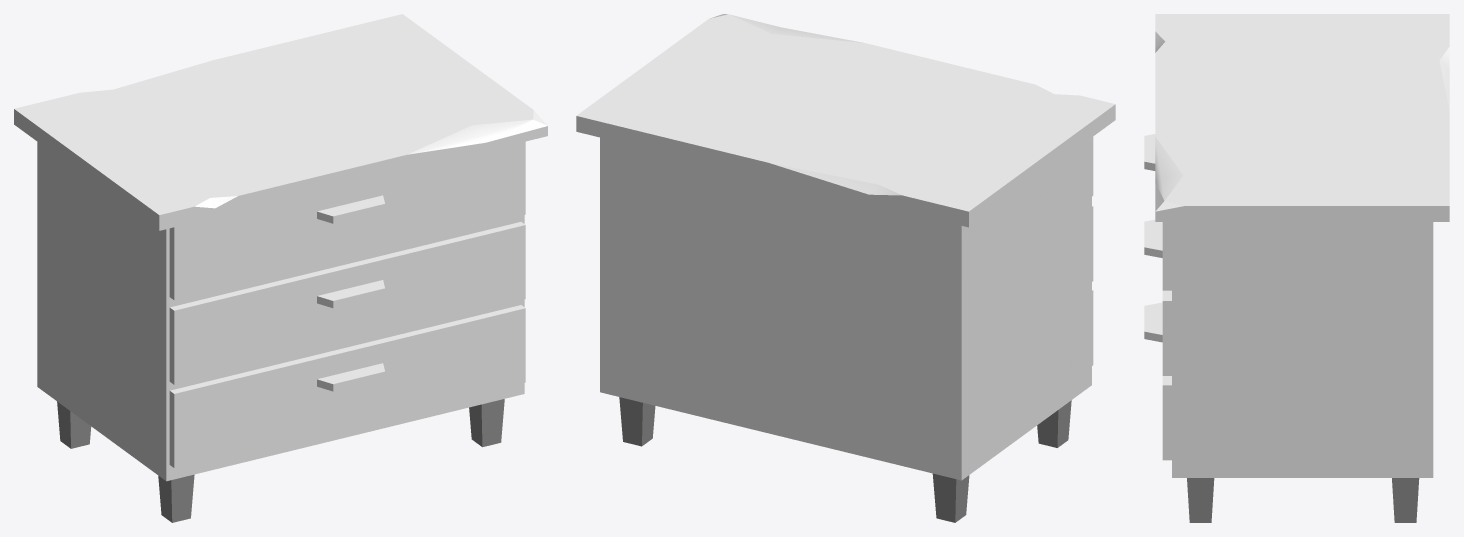
Rendered from SM_Prop_Dresser_05.obj.
3 views of the same model, side by side, from view 1: azimuth 30°, elevation 25°; view 2: azimuth 150°, elevation 25°; view 3: azimuth 270°, elevation 25° (orthographic).
Visible parts, largest first — view 1: SM_Prop_Dresser_05_Mat_SwatchOverlay_PolygonTown_01_Wood_Inst; view 2: SM_Prop_Dresser_05_Mat_SwatchOverlay_PolygonTown_01_Wood_Inst; view 3: SM_Prop_Dresser_05_Mat_SwatchOverlay_PolygonTown_01_Wood_Inst.
Boxes of the visible parts, bbox=[...] form: SM_Prop_Dresser_05_Mat_SwatchOverlay_PolygonTown_01_Wood_Inst: bbox=[14, 14, 547, 522]; SM_Prop_Dresser_05_Mat_SwatchOverlay_PolygonTown_01_Wood_Inst: bbox=[576, 14, 1115, 522]; SM_Prop_Dresser_05_Mat_SwatchOverlay_PolygonTown_01_Wood_Inst: bbox=[1144, 14, 1449, 522].
Bounding box in the file's own units: 0.8694 × 0.7 × 0.5845.
1 material, 1 textured.
